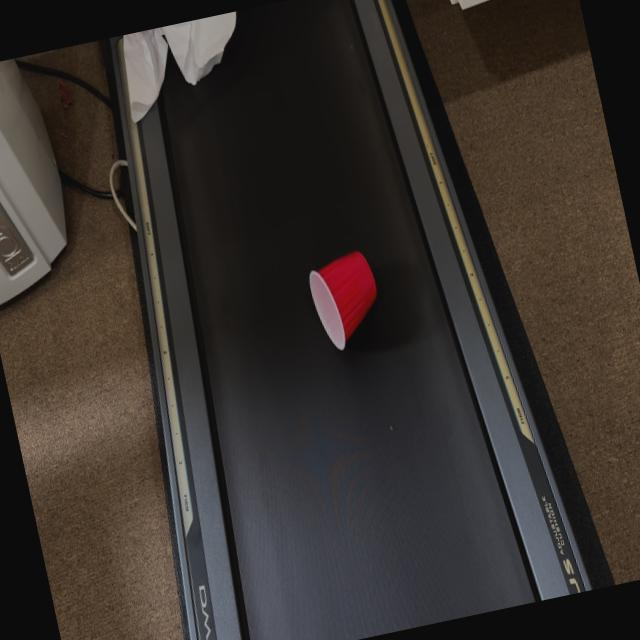Recycle: (113, 11, 254, 124), (304, 248, 388, 354)
